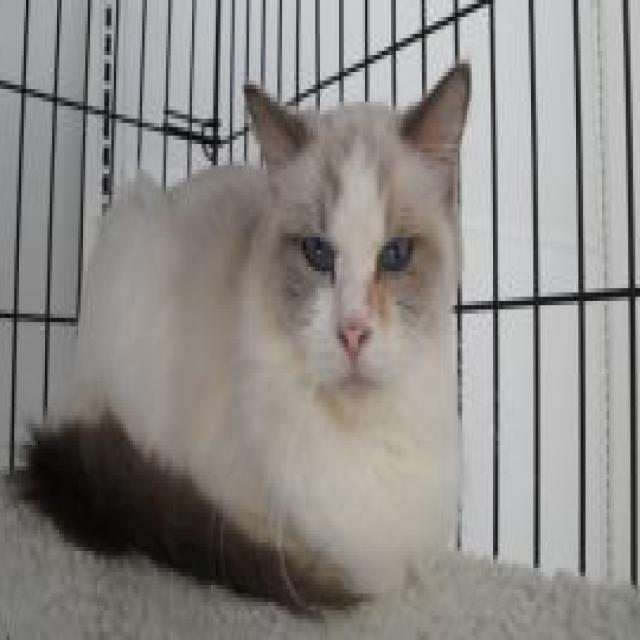Ragdoll: (9, 55, 477, 620)
